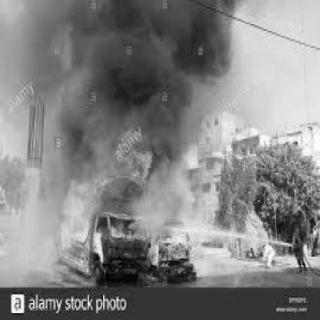Fire: (56, 171, 92, 274), (121, 122, 165, 184), (111, 216, 132, 236)
Smoke: (33, 0, 233, 134)
